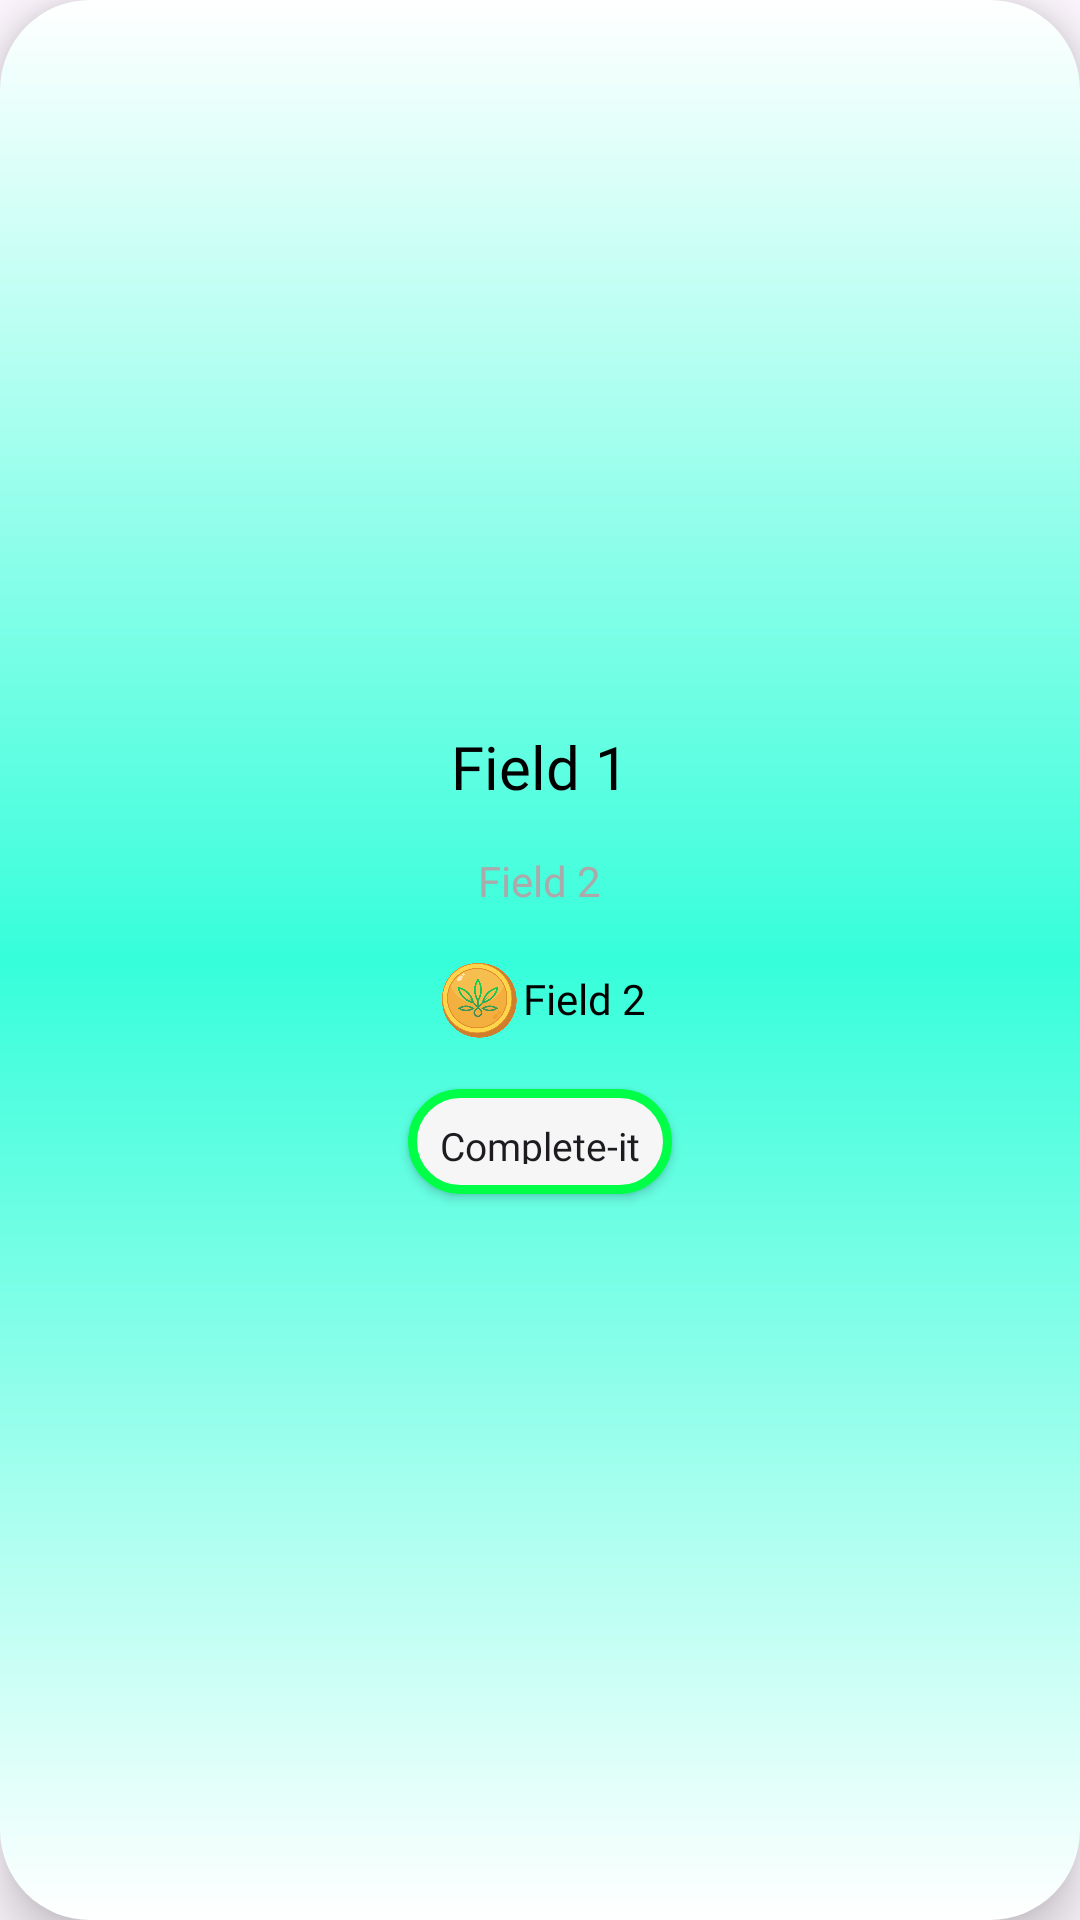

Screen size 1080px×1920px. Icon name, then its center in pixels as (x,y):
coin: (479,1000)
